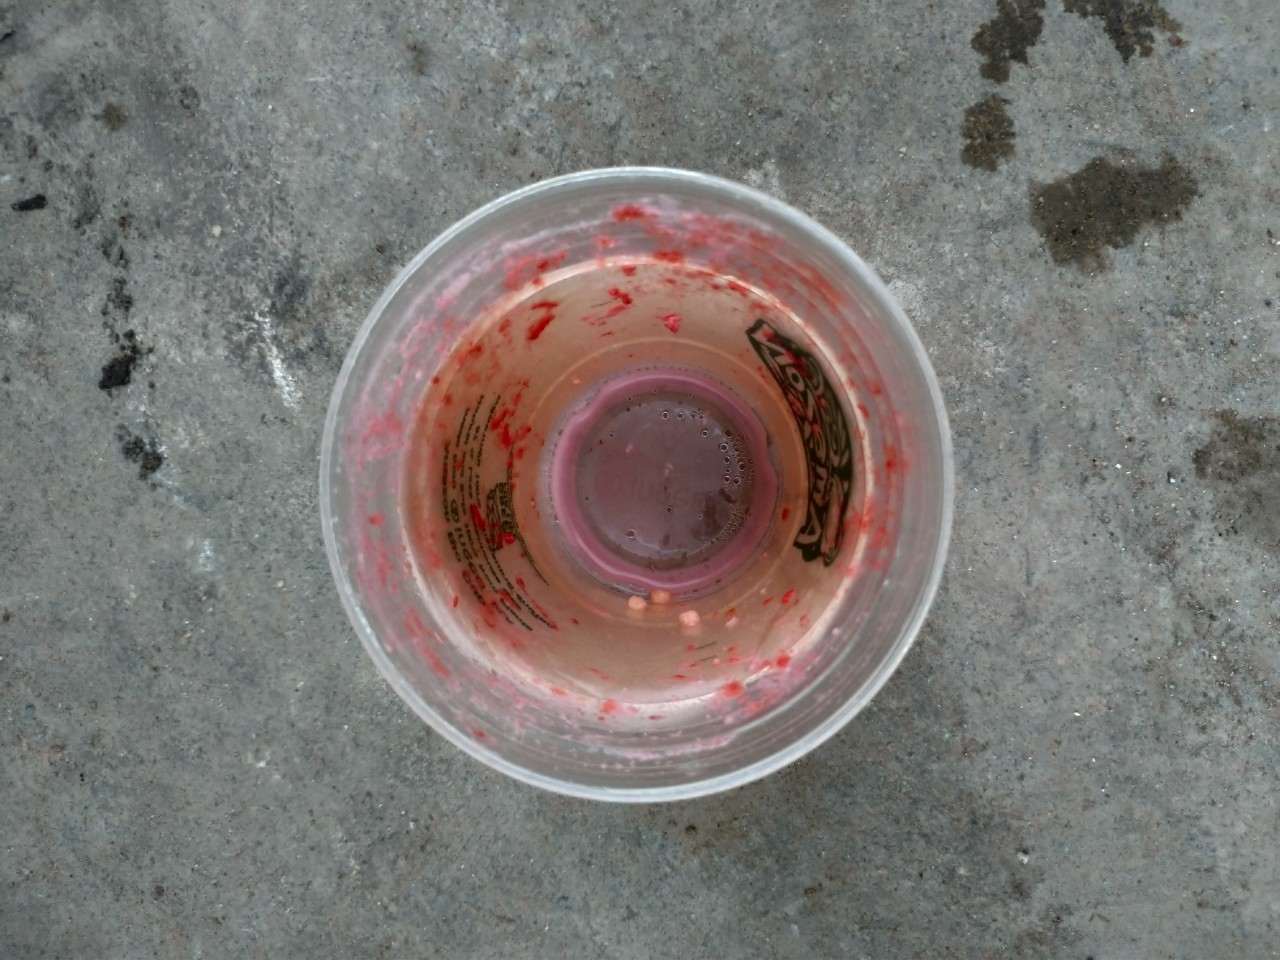PlasticCup: (310, 164, 962, 812)
